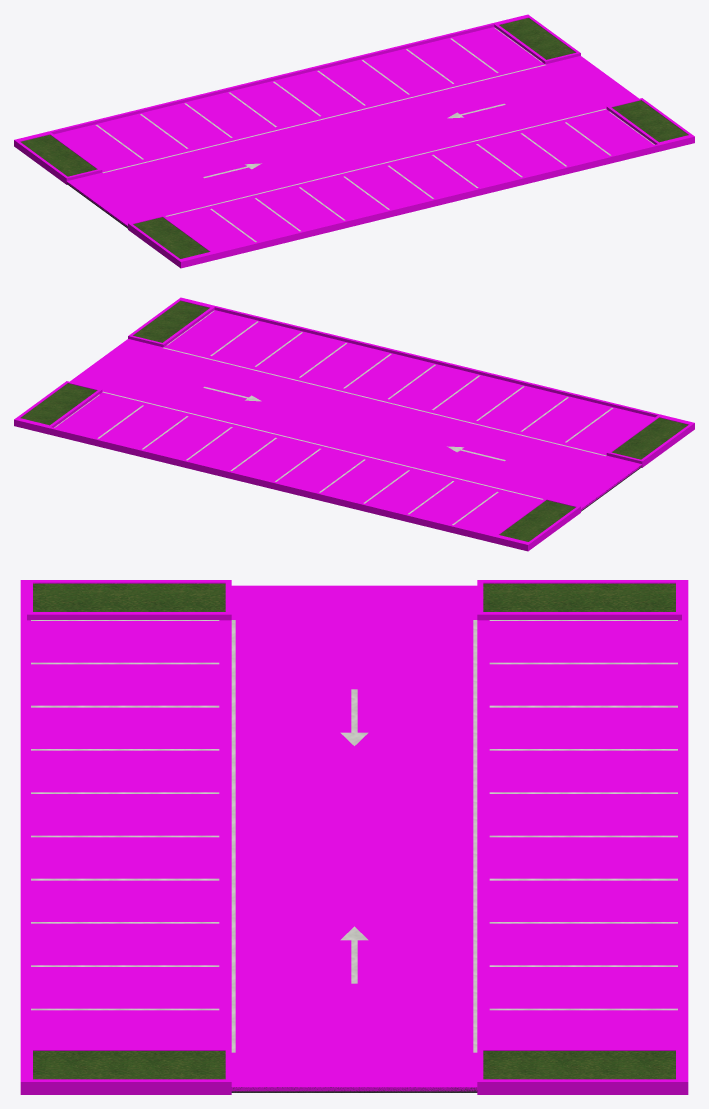
Rendered from EN_Park_Lot_20.fbx.
The picture shows the model from 3 angles, top to bottom: view 1: azimuth 30°, elevation 25°; view 2: azimuth 150°, elevation 25°; view 3: azimuth 270°, elevation 25°; orthographic projection. The views are drawn at different scales.
Parts seen in each view (by area): view 1: COL_DriveSurface, COL_Curb, EN_Park_Lot_20_Mesh, EN_Park_Lot_20_Markings; view 2: COL_DriveSurface, COL_Curb, EN_Park_Lot_20_Mesh, EN_Park_Lot_20_Markings; view 3: COL_DriveSurface, EN_Park_Lot_20_Mesh, COL_Curb, EN_Park_Lot_20_Markings.
Boxes of the visible parts, <box> form: COL_DriveSurface: <box>54,27,653,251</box>; COL_Curb: <box>14,14,694,268</box>; EN_Park_Lot_20_Mesh: <box>21,18,688,258</box>; EN_Park_Lot_20_Markings: <box>95,28,654,242</box>; COL_DriveSurface: <box>55,310,654,534</box>; COL_Curb: <box>14,297,694,551</box>; EN_Park_Lot_20_Mesh: <box>20,301,687,541</box>; EN_Park_Lot_20_Markings: <box>54,311,613,525</box>; COL_DriveSurface: <box>27,585,681,1091</box>; EN_Park_Lot_20_Mesh: <box>33,583,675,1092</box>; COL_Curb: <box>20,580,688,1094</box>; EN_Park_Lot_20_Markings: <box>31,620,677,1052</box>.
Bounding box in the file's own units: 29 × 0.35 × 16.3.
